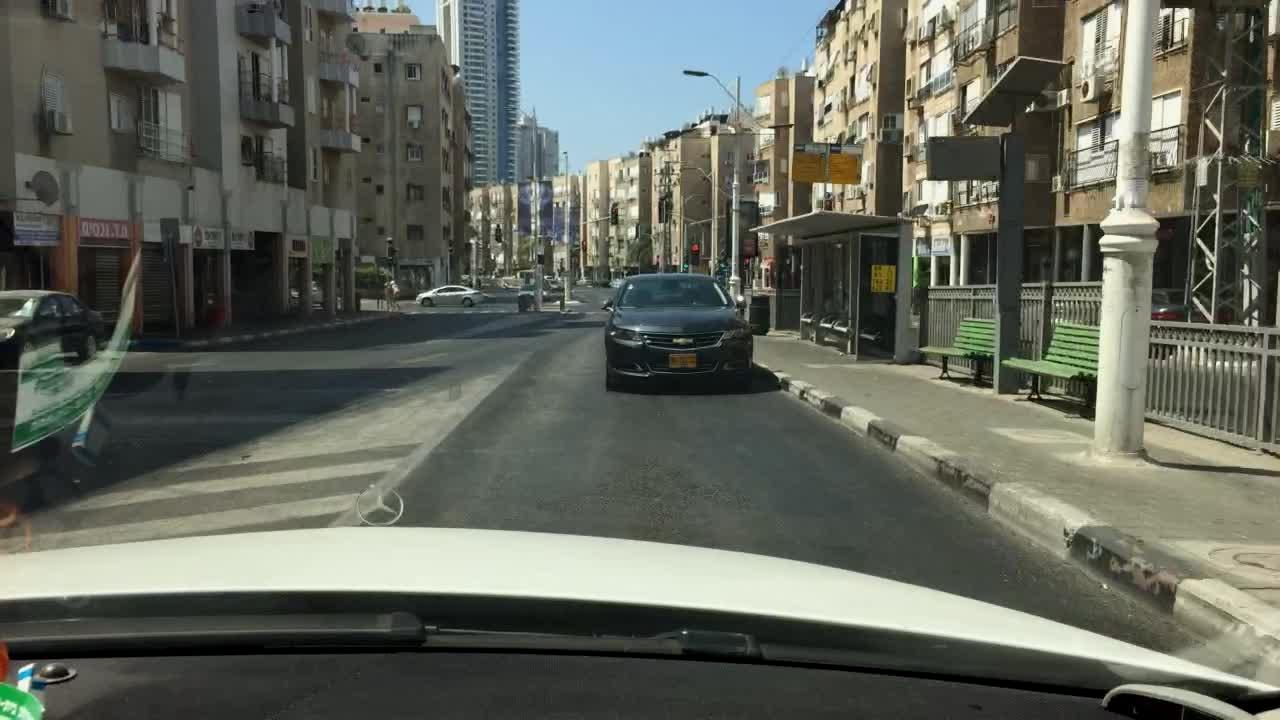Mercedes: (346, 467, 421, 534)
chevrolet: (672, 332, 697, 352)
